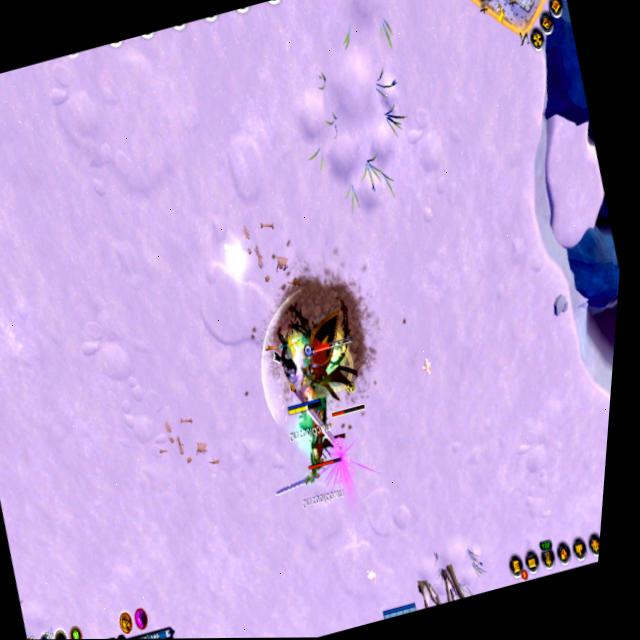ore: (300, 323, 380, 430)
red: (257, 320, 324, 422), (287, 395, 349, 480), (376, 597, 420, 620)
stone: (215, 233, 258, 285)
